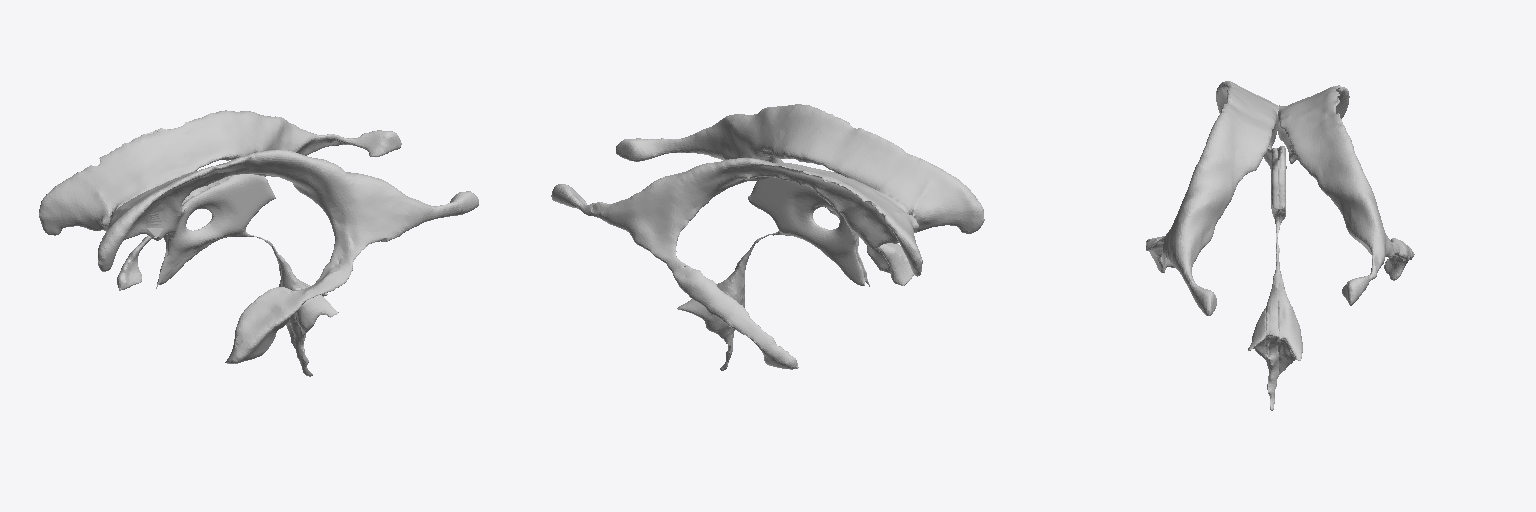
Rendered from Ventricles.obj.
3 views of the same model, side by side, from view 1: azimuth 30°, elevation 25°; view 2: azimuth 150°, elevation 25°; view 3: azimuth 270°, elevation 25° (orthographic).
Visible parts, largest first — view 1: Ventricles_ventricles; view 2: Ventricles_ventricles; view 3: Ventricles_ventricles.
Part boxes in pixels (left/top/right/bottom): Ventricles_ventricles: left=39, top=110, right=478, bottom=376; Ventricles_ventricles: left=551, top=104, right=984, bottom=370; Ventricles_ventricles: left=1146, top=81, right=1414, bottom=410.
Bounding box in the file's own units: 170 × 113 × 106.